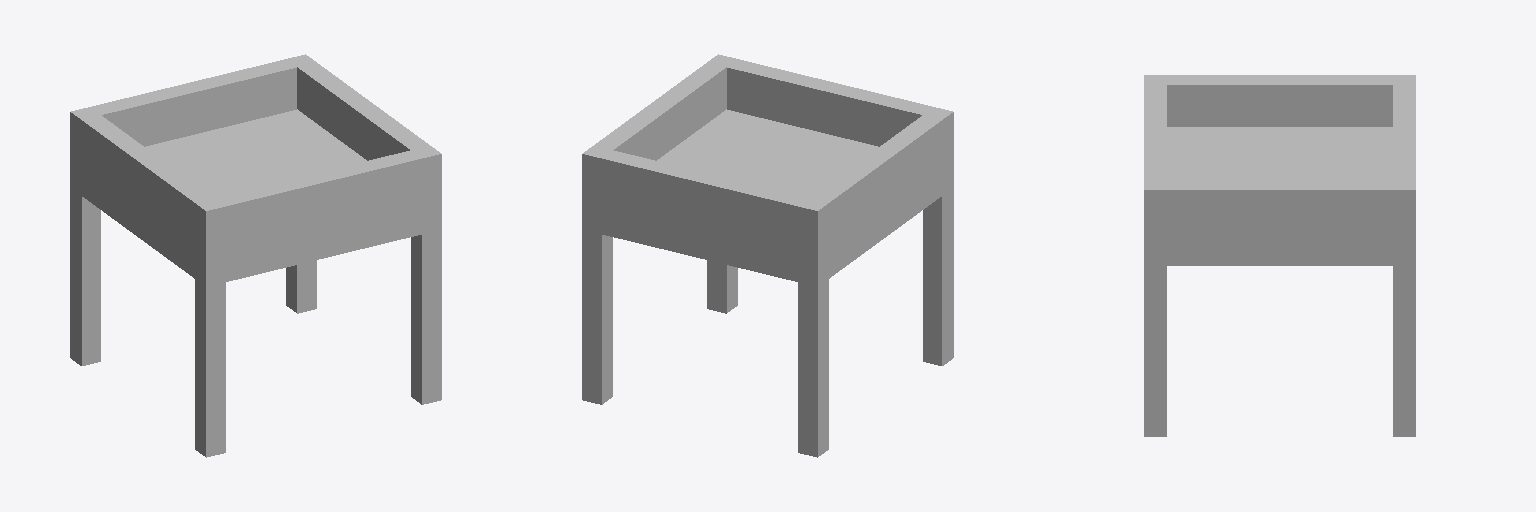
The model's file is sieve_50.obj.
3 views of the same model, side by side, from view 1: azimuth 30°, elevation 25°; view 2: azimuth 150°, elevation 25°; view 3: azimuth 270°, elevation 25° (orthographic).
Parts seen in each view (by area): view 1: Cube_Cube_+y, Cube_Cube_+x; view 2: Cube_Cube_+y, Cube_Cube_+x; view 3: Cube_Cube_+y, Cube_Cube_+x.
Boxes of the visible parts, x1=… form: Cube_Cube_+y: x1=70, y1=54, x2=441, y2=457; Cube_Cube_+x: x1=145, y1=109, x2=366, y2=197; Cube_Cube_+y: x1=582, y1=54, x2=953, y2=457; Cube_Cube_+x: x1=657, y1=109, x2=878, y2=197; Cube_Cube_+y: x1=1144, y1=75, x2=1415, y2=436; Cube_Cube_+x: x1=1167, y1=127, x2=1392, y2=180.
Size of the model in its own units: 1 by 1 by 1.